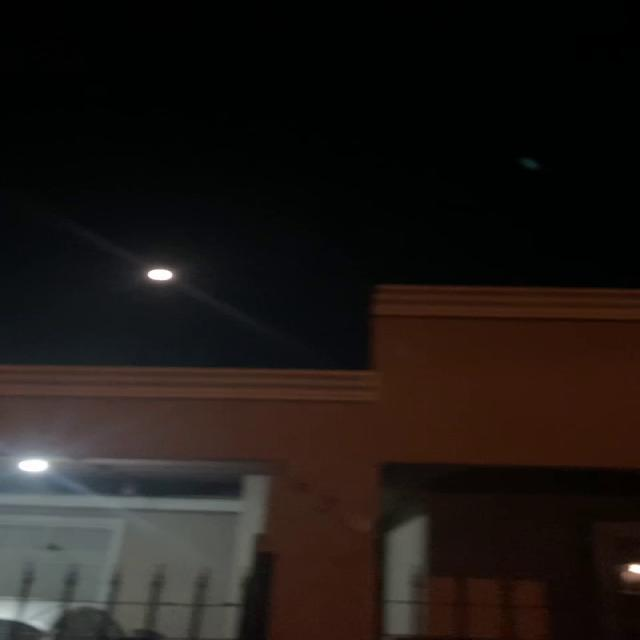moon: (128, 257, 180, 288)
